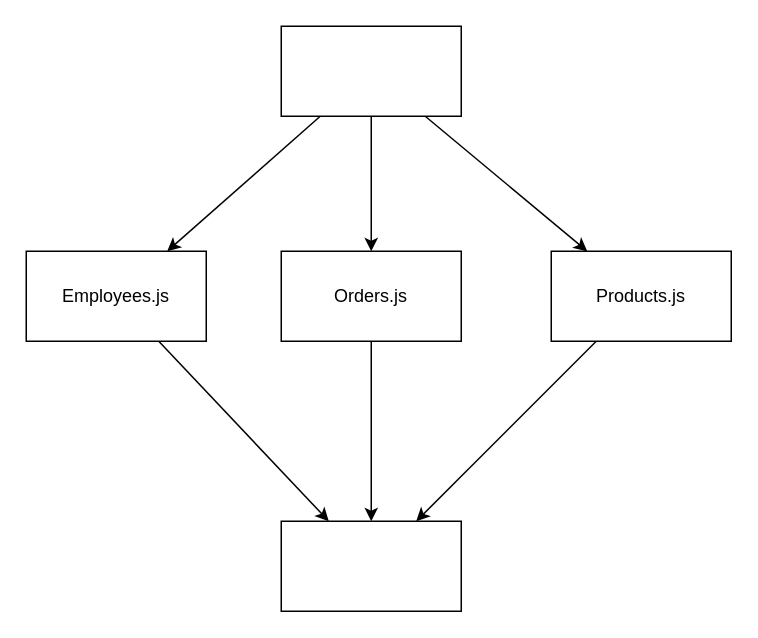
This 758x638 diagram has some shape labels left out. Each missing label, with the centre of its shape:
"database.js" goes at (370,565).
"main.js" goes at (370,70).
